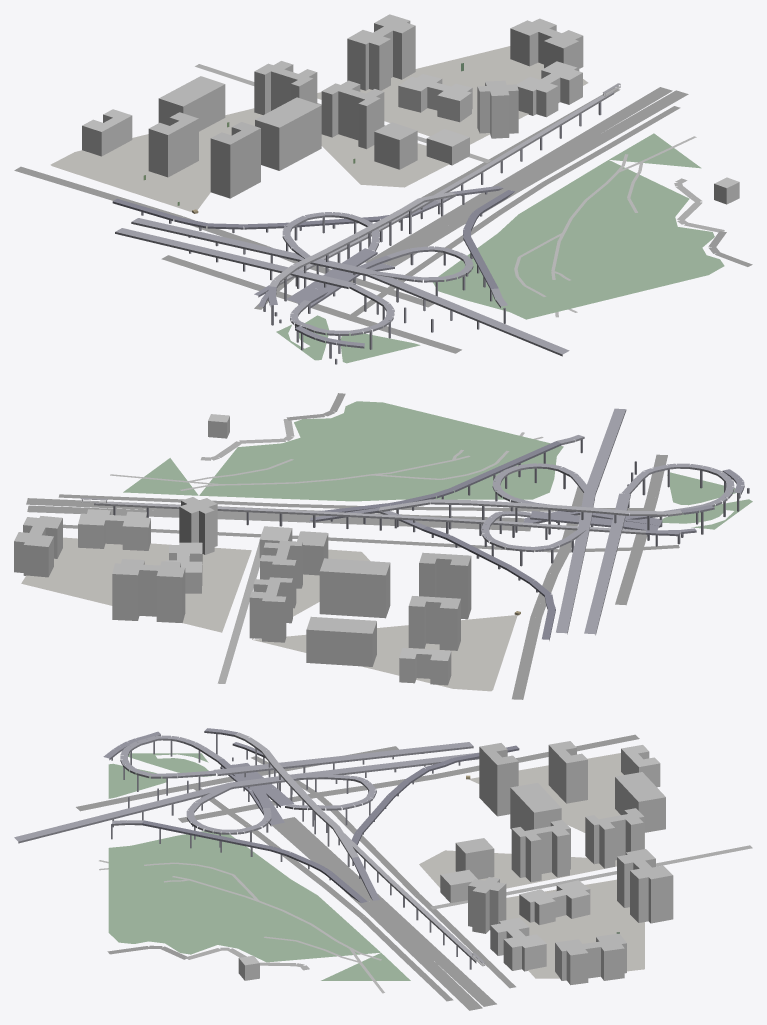
3 renders of one model, top to bottom at view 1: azimuth 30°, elevation 25°; view 2: azimuth 150°, elevation 25°; view 3: azimuth 270°, elevation 25°, orthographic. The views are drawn at different scales.
Bounding box in the file's own units: 602 × 56.79 × 689.
